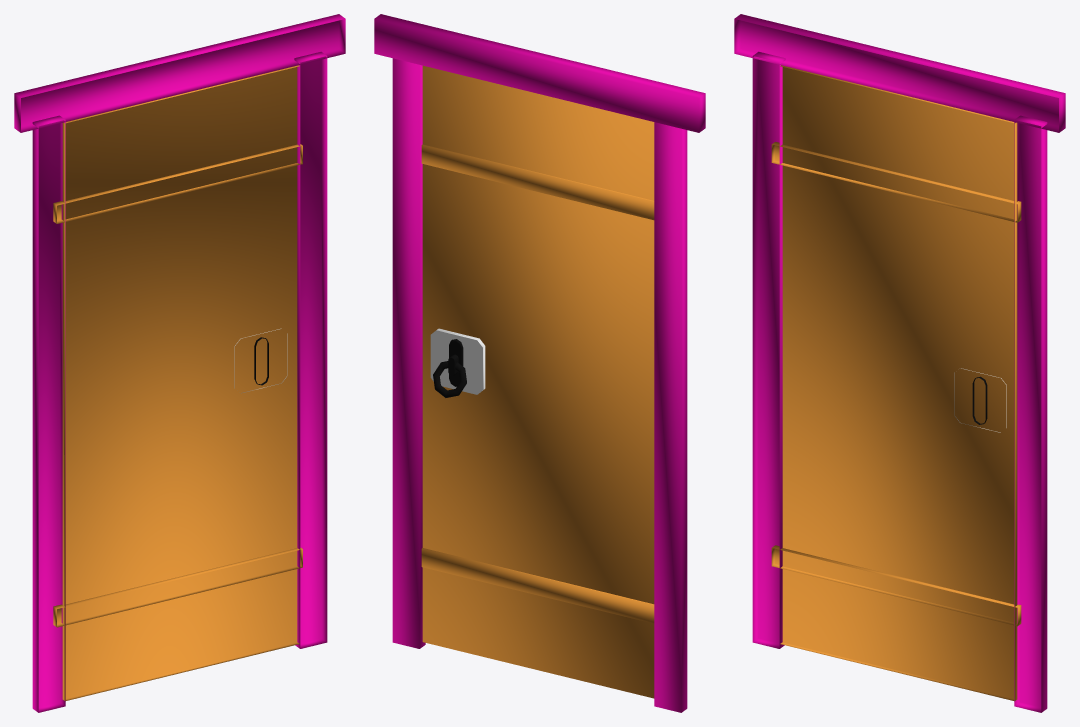
File: Puerta_low.fbx
The picture shows the model from 3 angles, left to right: view 1: azimuth 30°, elevation 25°; view 2: azimuth 150°, elevation 25°; view 3: azimuth 330°, elevation 25°; orthographic projection.
Parts seen in each view (by area): view 1: Cube.051; view 2: Cube.051; view 3: Cube.051.
Part boxes in pixels (bbox=[...]): Cube.051: bbox=[14, 14, 345, 712]; Cube.051: bbox=[374, 14, 705, 712]; Cube.051: bbox=[734, 14, 1065, 712].
Size of the model in its own units: 103 by 188 by 9.29.
